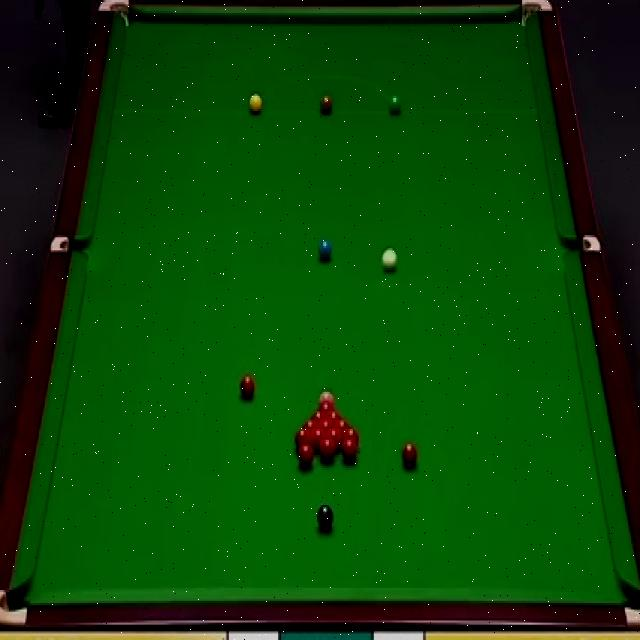black-ball: (318, 505, 332, 529)
blue-ball: (318, 238, 333, 260)
brown-ball: (319, 92, 333, 117)
green-ball: (387, 92, 402, 115)
pink-ball: (318, 390, 337, 404)
red-ball: (402, 440, 418, 470), (239, 372, 256, 397), (344, 426, 359, 448), (336, 419, 350, 442), (300, 444, 314, 467), (320, 439, 334, 461), (312, 429, 326, 450), (295, 430, 310, 449), (344, 439, 356, 461), (328, 430, 340, 451), (303, 420, 318, 430), (318, 422, 336, 428)
white-ball: (380, 245, 398, 271)
yellow-ball: (249, 94, 263, 115)
